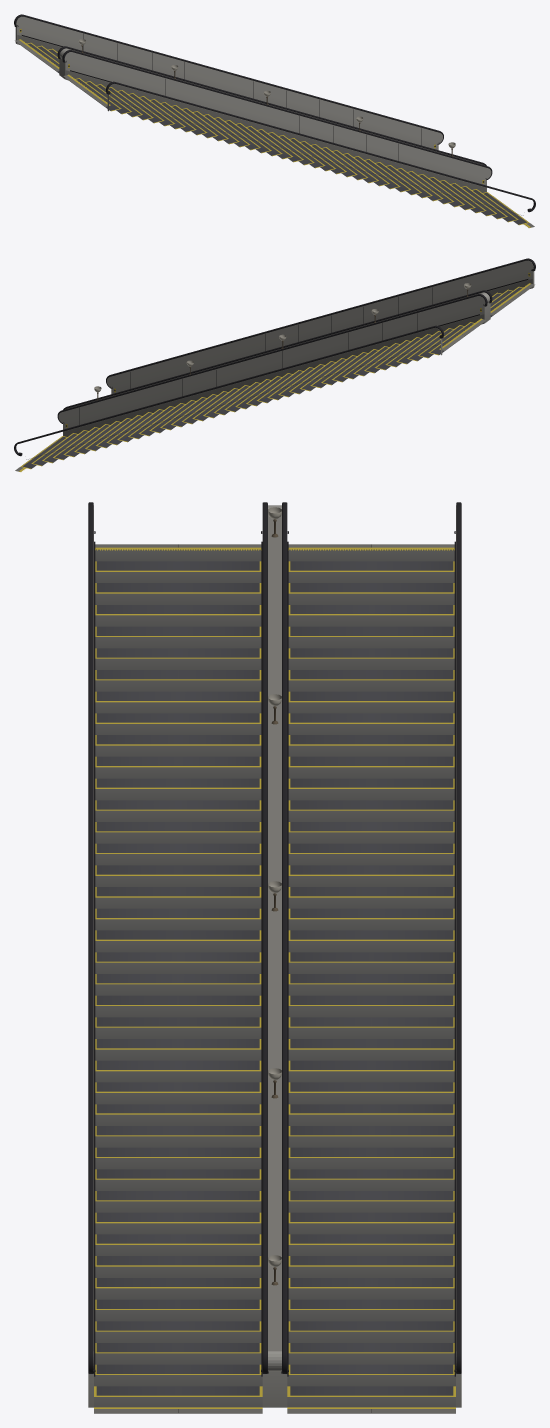
Rendered from escalator_lower.glb.
The picture shows the model from 3 angles, top to bottom: view 1: azimuth 30°, elevation 25°; view 2: azimuth 150°, elevation 25°; view 3: azimuth 270°, elevation 25°; orthographic projection. The views are drawn at different scales.
Parts seen in each view (by area): view 1: escalator_lower; view 2: escalator_lower; view 3: escalator_lower.
Boxes of the visible parts, <box> form: escalator_lower: <box>14,14,535,227</box>; escalator_lower: <box>14,258,535,471</box>; escalator_lower: <box>88,502,461,1413</box>.
Size of the model in its own units: 16.02 by 9 by 6.02.
